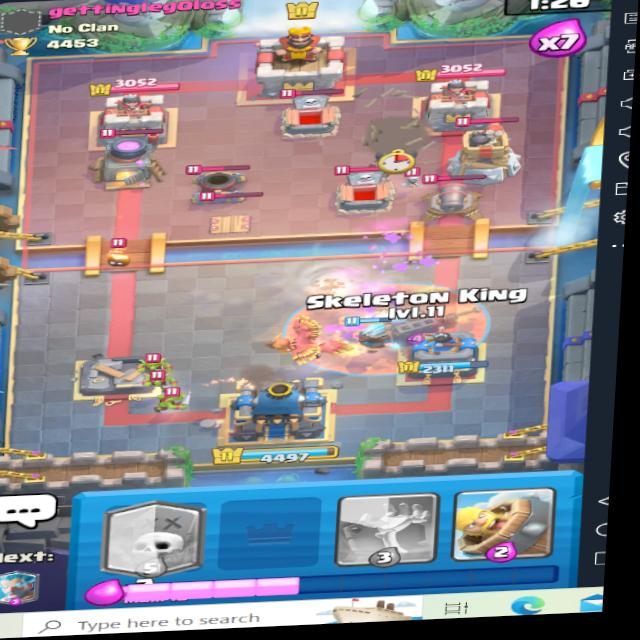bomb-tower: (450, 113, 529, 180)
cannon: (413, 169, 500, 222)
fire-spirit: (99, 239, 137, 268)
furnace: (87, 121, 170, 189)
goblin: (156, 381, 196, 416), (144, 367, 180, 392), (133, 353, 175, 374)
mortar: (180, 160, 260, 201)
skeleton: (396, 163, 434, 191)
tesla-closed: (185, 187, 272, 241)
tombstone: (326, 159, 398, 221), (269, 84, 346, 139)
